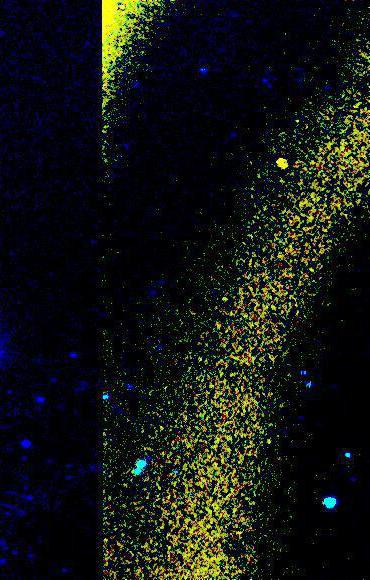star: (269, 148, 299, 178)
